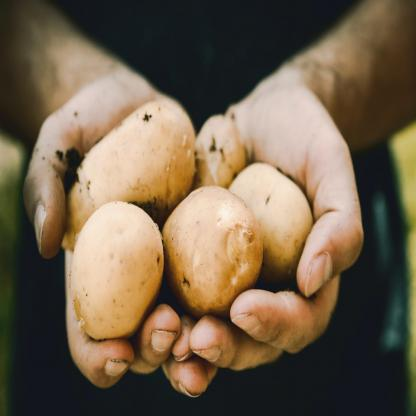potato: (144, 152, 268, 315), (62, 180, 169, 353)
